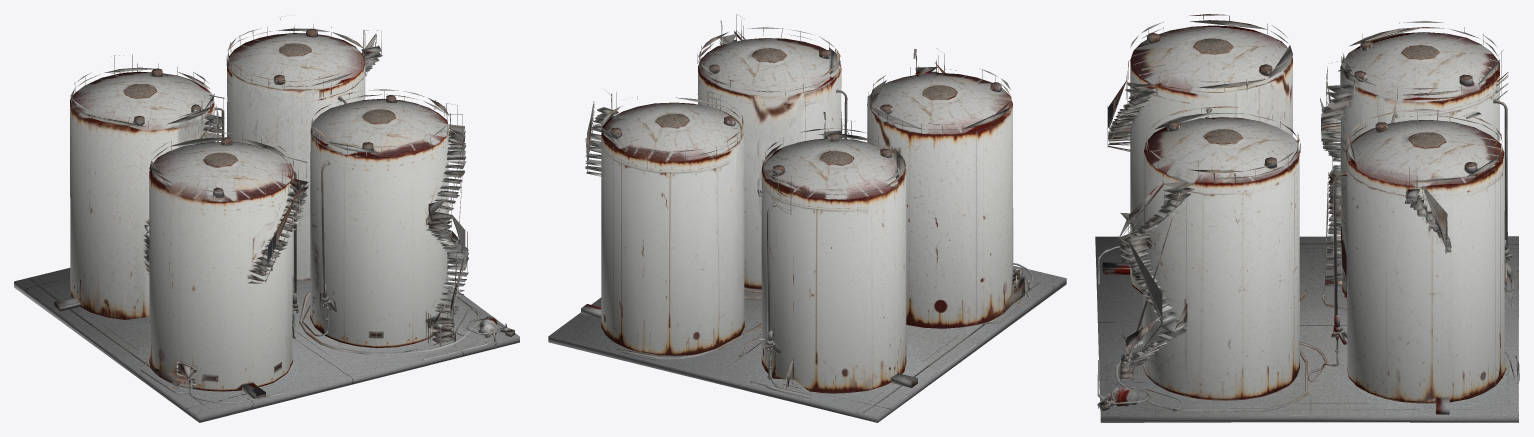
Rendered from prop_tanks.glb.
The picture shows the model from 3 angles, left to right: view 1: azimuth 30°, elevation 25°; view 2: azimuth 150°, elevation 25°; view 3: azimuth 270°, elevation 25°; orthographic projection. The views are drawn at different scales.
Visible parts, largest first — view 1: Mesh_0; view 2: Mesh_0; view 3: Mesh_0.
Part boxes in pixels (x1,y1,x2,y2): Mesh_0: (14, 15, 519, 422); Mesh_0: (548, 14, 1066, 422); Mesh_0: (1095, 14, 1519, 422).
Size of the model in its own units: 0.9565 by 0.6113 by 0.9531.
Materials: 1 (1 with a texture image).
